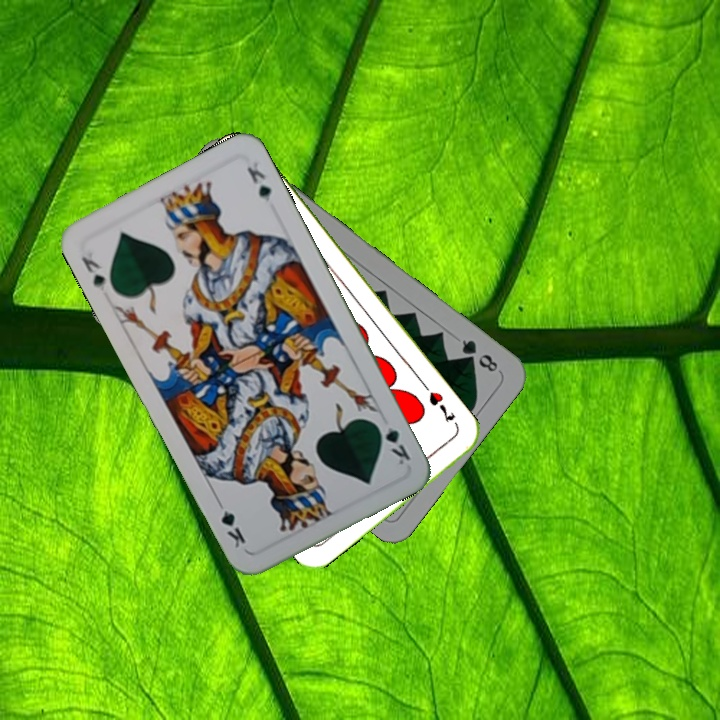G8: (457, 335, 502, 376)
GK: (371, 418, 413, 468), (77, 252, 109, 294)
H7: (424, 387, 458, 425)
